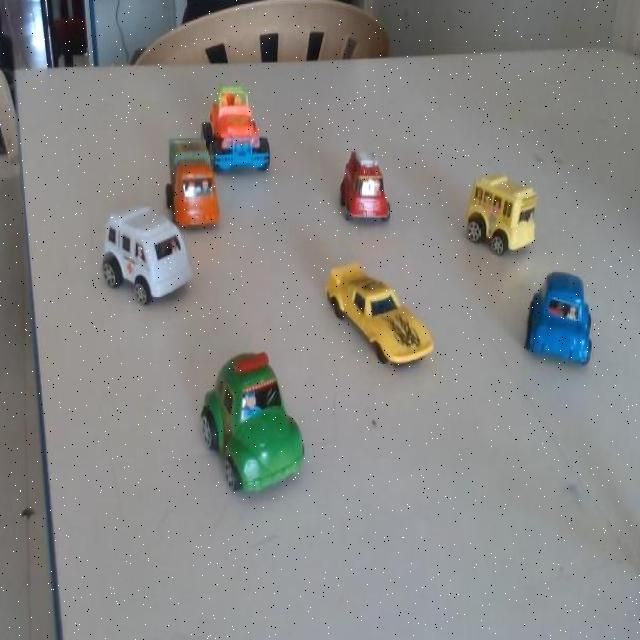car: (194, 356, 306, 489), (100, 198, 194, 315), (325, 266, 431, 362), (205, 77, 283, 175), (456, 172, 533, 262), (161, 129, 222, 236), (527, 275, 595, 364), (328, 144, 392, 236)
